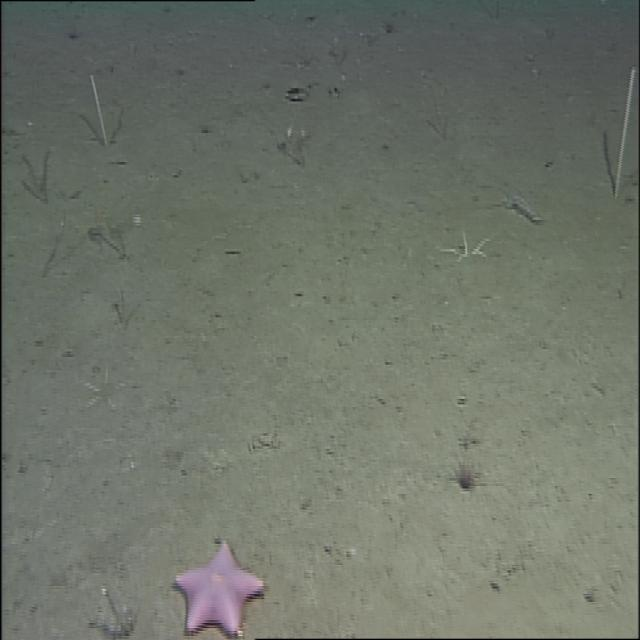Brittle Star: (76, 363, 128, 415)
Not Brittle Star: (175, 533, 265, 635), (446, 452, 485, 492), (88, 71, 108, 148)
